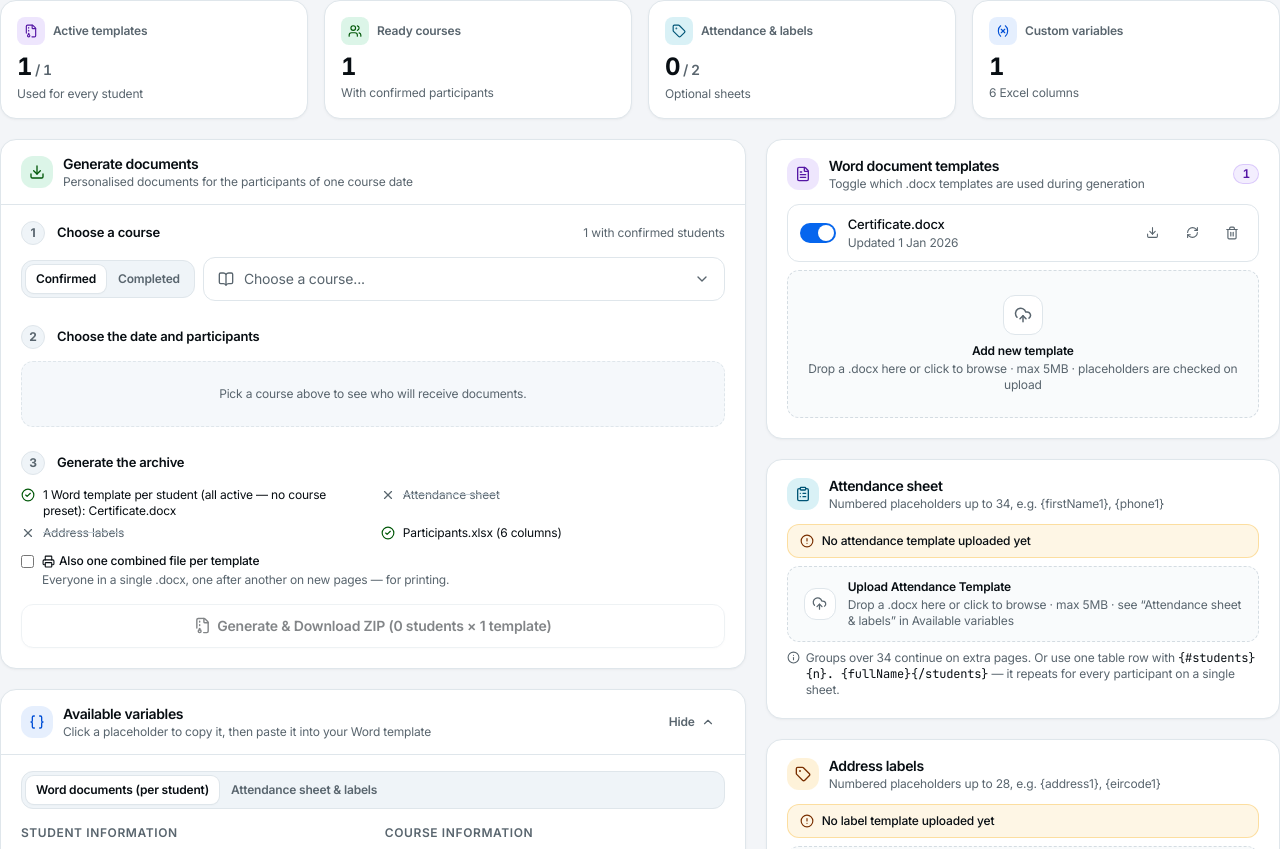
it: DocumentGenerator › leaves out unticked participants
The width and height of the screenshot is (1280, 849).
Click the button "Choose a course...". click: click(304, 278)
box: [203,257,725,301]
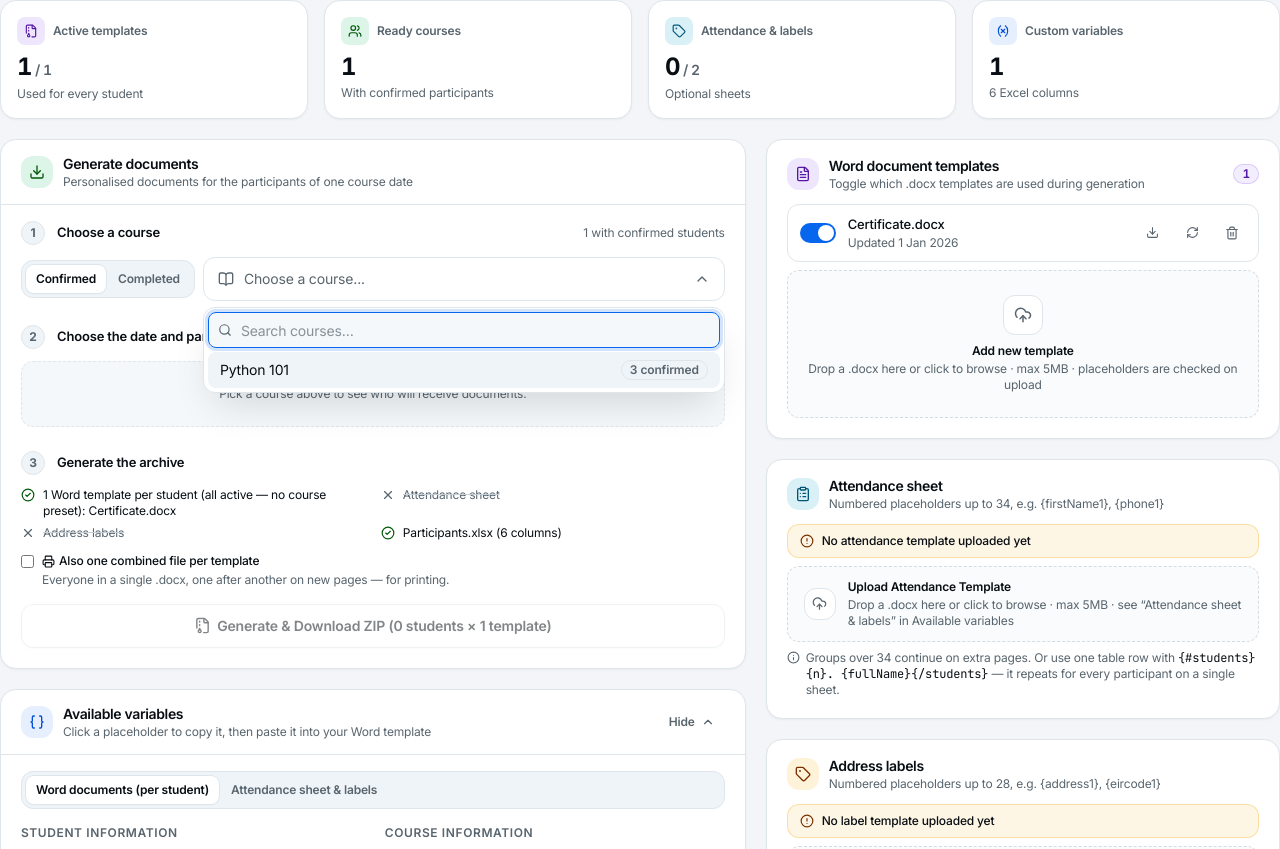
Click the option "Python 101 3 confirmed". click: click(254, 370)
box: [208,352,720,388]
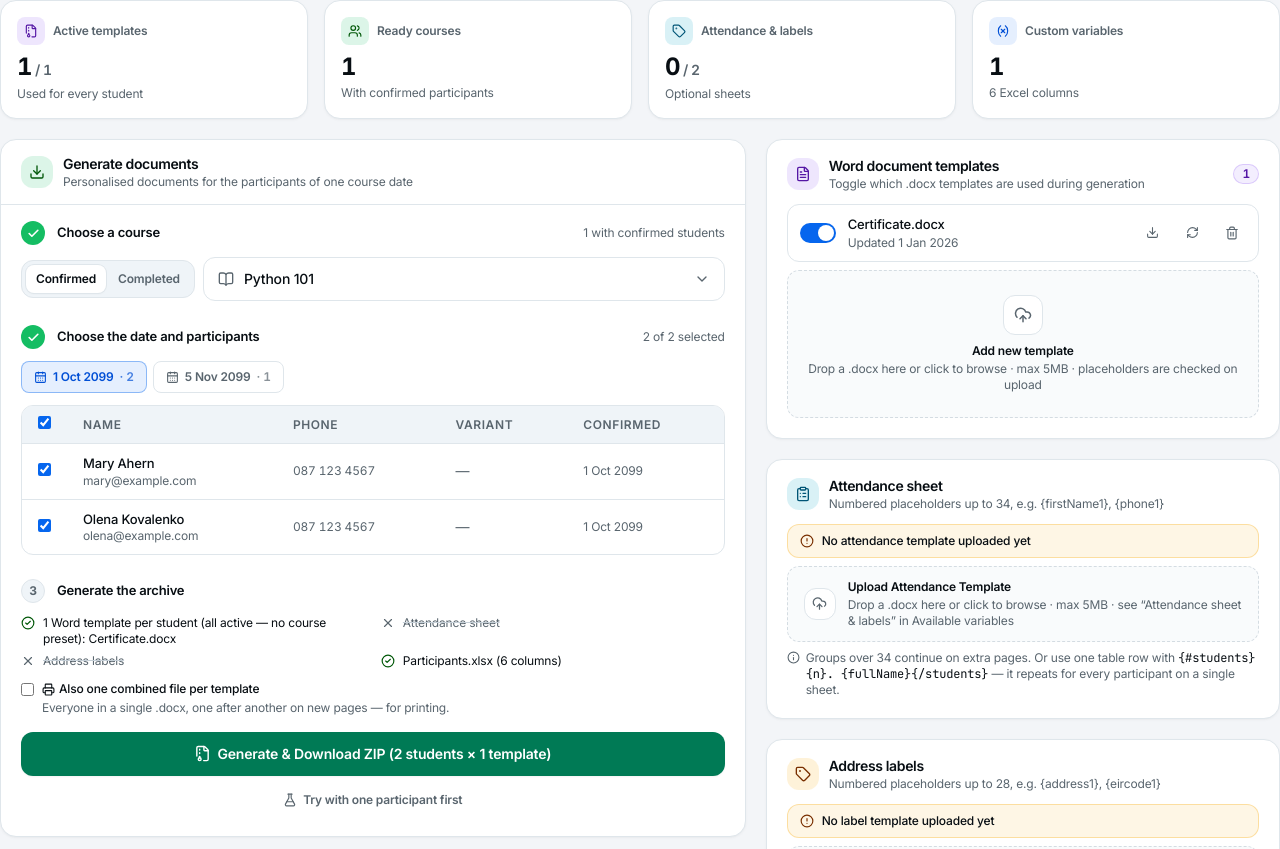
Click the checkbox named "Include Mary Ahern". click: click(44, 470)
box: [38,463,51,476]
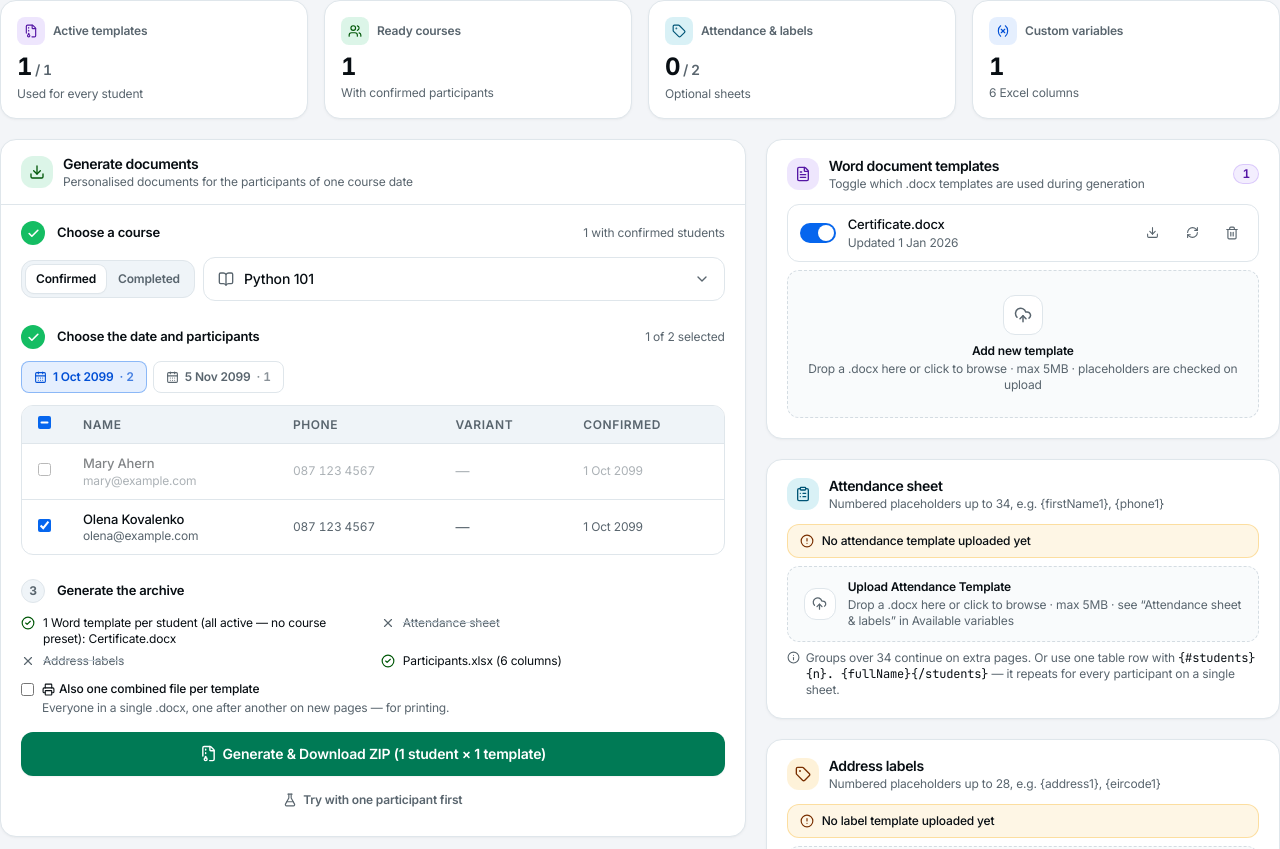
Expected: the button "Generate & Download ZIP (1 student × 1 template)" is shown, [21,732,725,776]
